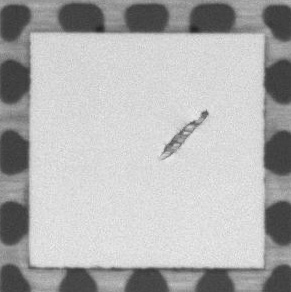DIE_INK: (159, 103, 215, 160)
